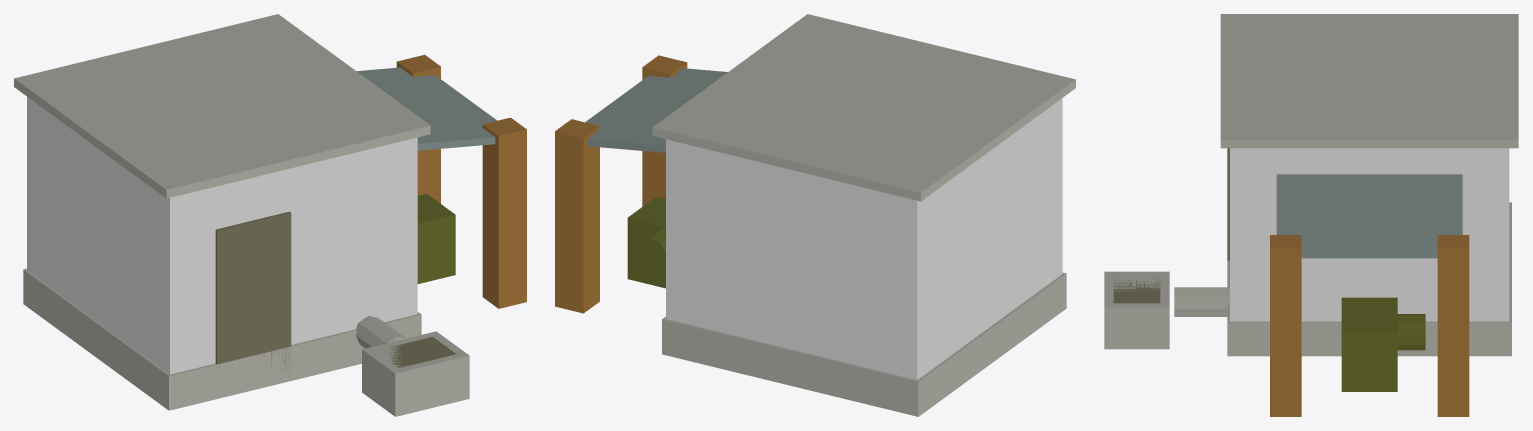
Rendered from SM_CasetaPozo_v2_Motor_LOD1.fbx.
3 renders of one model, left to right at view 1: azimuth 30°, elevation 25°; view 2: azimuth 150°, elevation 25°; view 3: azimuth 270°, elevation 25°, orthographic. The views are drawn at different scales.
Visible parts, largest first — view 1: SM_huerta_nules_v2_LOD1; view 2: SM_huerta_nules_v2_LOD1; view 3: SM_huerta_nules_v2_LOD1.
Part boxes in pixels (bbox=[...]): SM_huerta_nules_v2_LOD1: bbox=[14, 14, 526, 416]; SM_huerta_nules_v2_LOD1: bbox=[555, 14, 1075, 416]; SM_huerta_nules_v2_LOD1: bbox=[1104, 14, 1518, 416].
Size of the model in its own units: 4.67 by 2.6 by 4.45.
